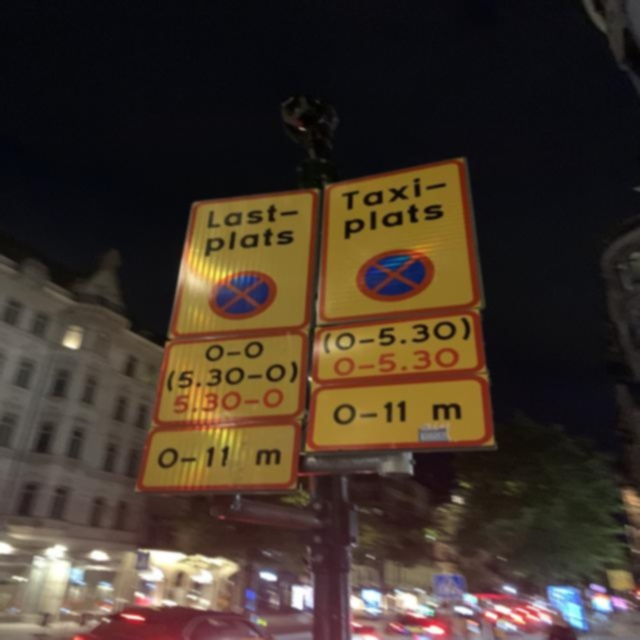lastplats: (165, 186, 321, 342)
